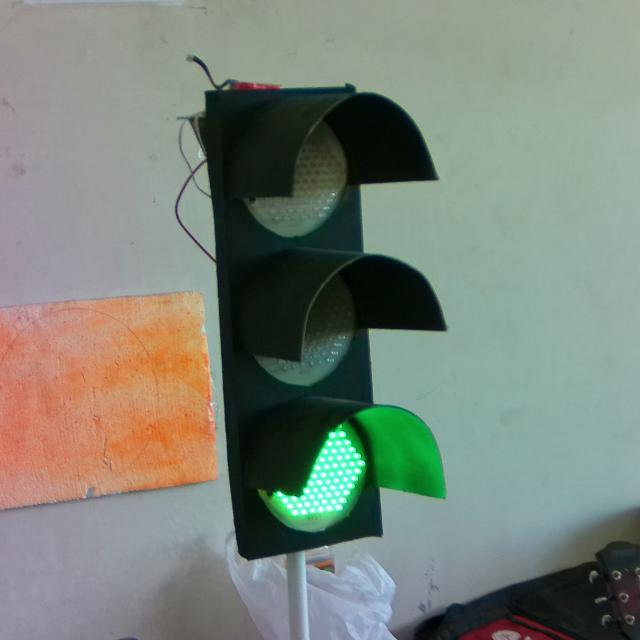green light: (202, 87, 448, 554)
